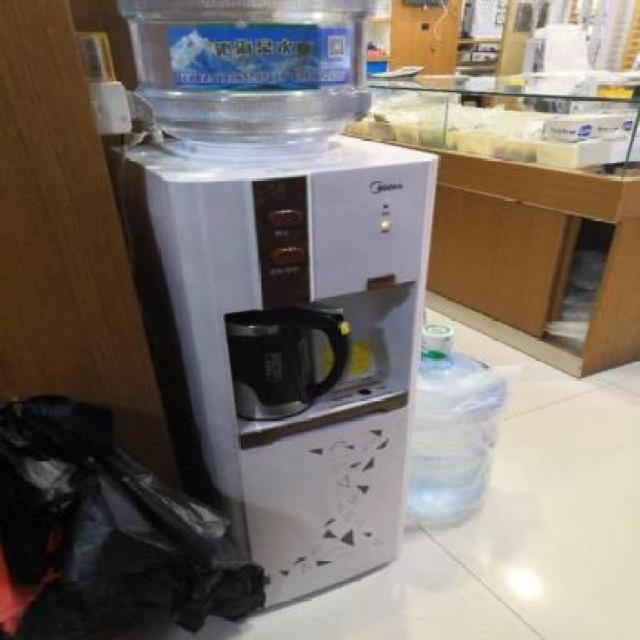cooler: (117, 0, 438, 611)
